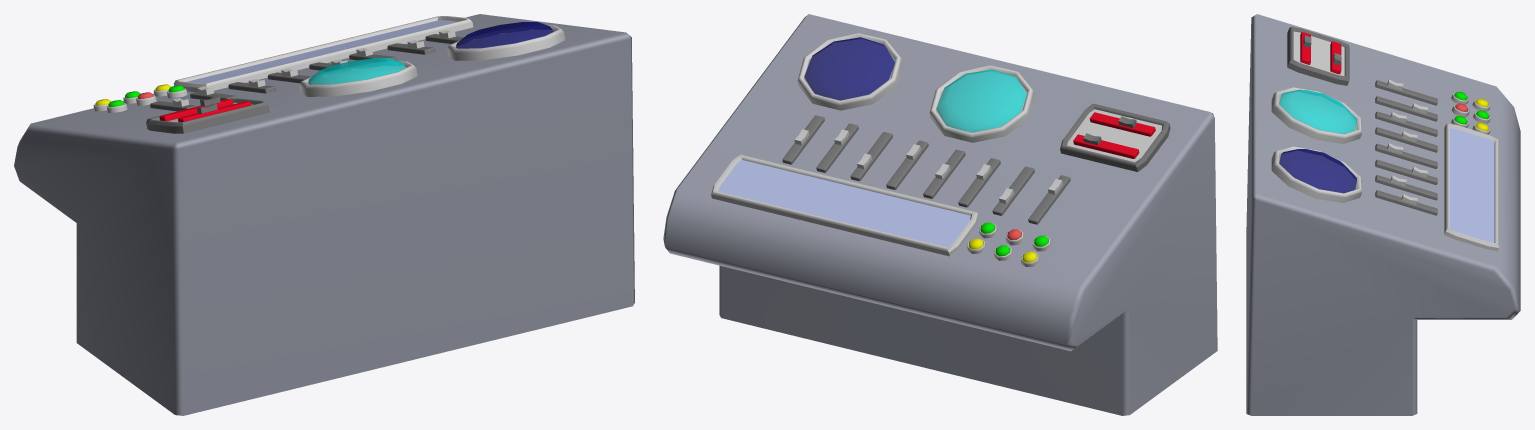
Rendered from Machine2_.fbx.
The picture shows the model from 3 angles, left to right: view 1: azimuth 30°, elevation 25°; view 2: azimuth 150°, elevation 25°; view 3: azimuth 270°, elevation 25°; orthographic projection. The views are drawn at different scales.
Parts seen in each view (by area): view 1: Machine2_; view 2: Machine2_; view 3: Machine2_.
Part boxes in pixels (x1,y1,x2,y2): Machine2_: [14, 14, 634, 415]; Machine2_: [663, 14, 1217, 415]; Machine2_: [1246, 14, 1520, 415].
Bounding box in the file's own units: 355 × 202 × 224.
